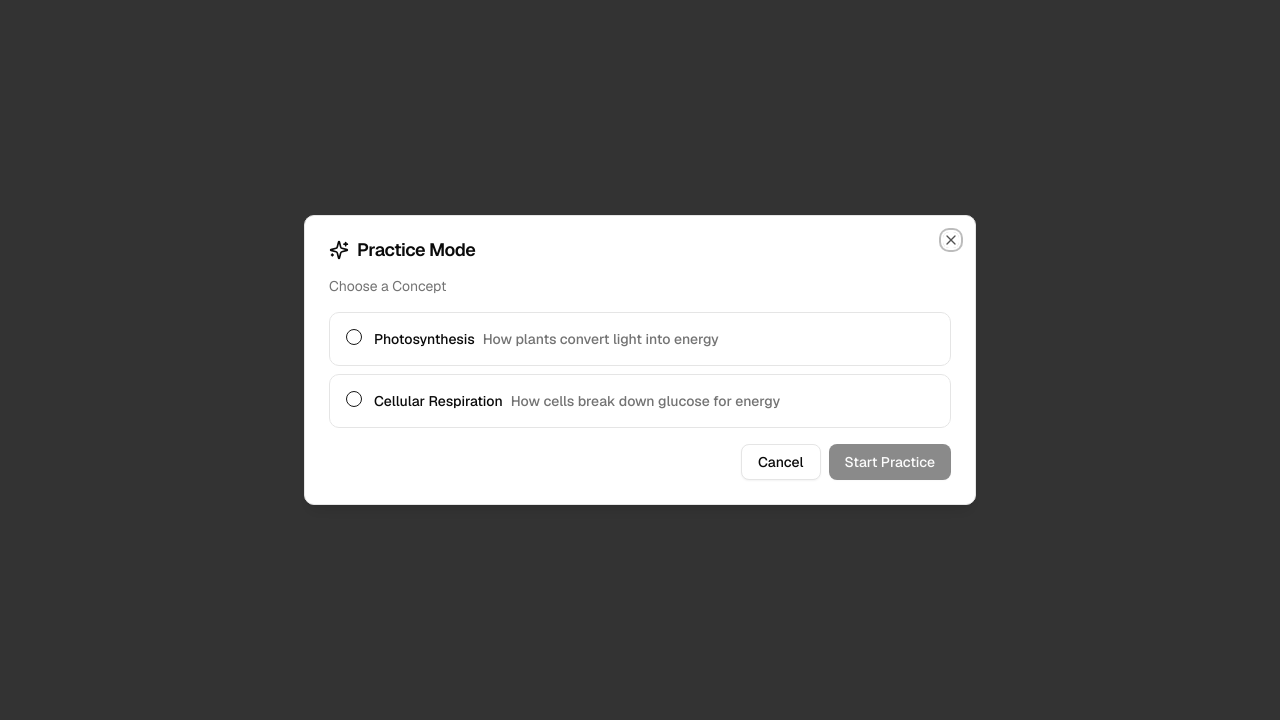
PracticeModal › shows Practice Another and Done buttons in feedback phase
The width and height of the screenshot is (1280, 720).
expect the text "Photosynthesis" is shown: met, box [374,332,475,346]
Click the radio button named "photosynthesis" next to "Photosynthesis": x=354, y=337 [346,329,362,345]
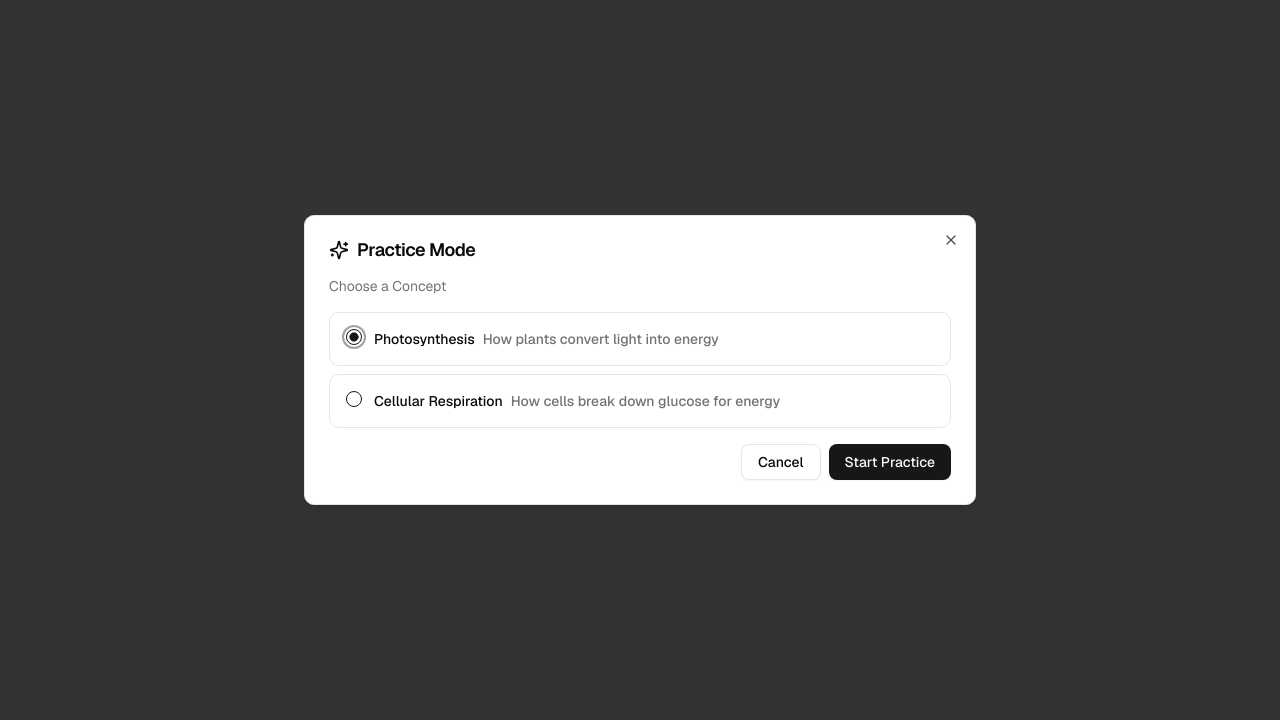
Click the button "Start Practice": x=890, y=462 [828,444,951,480]
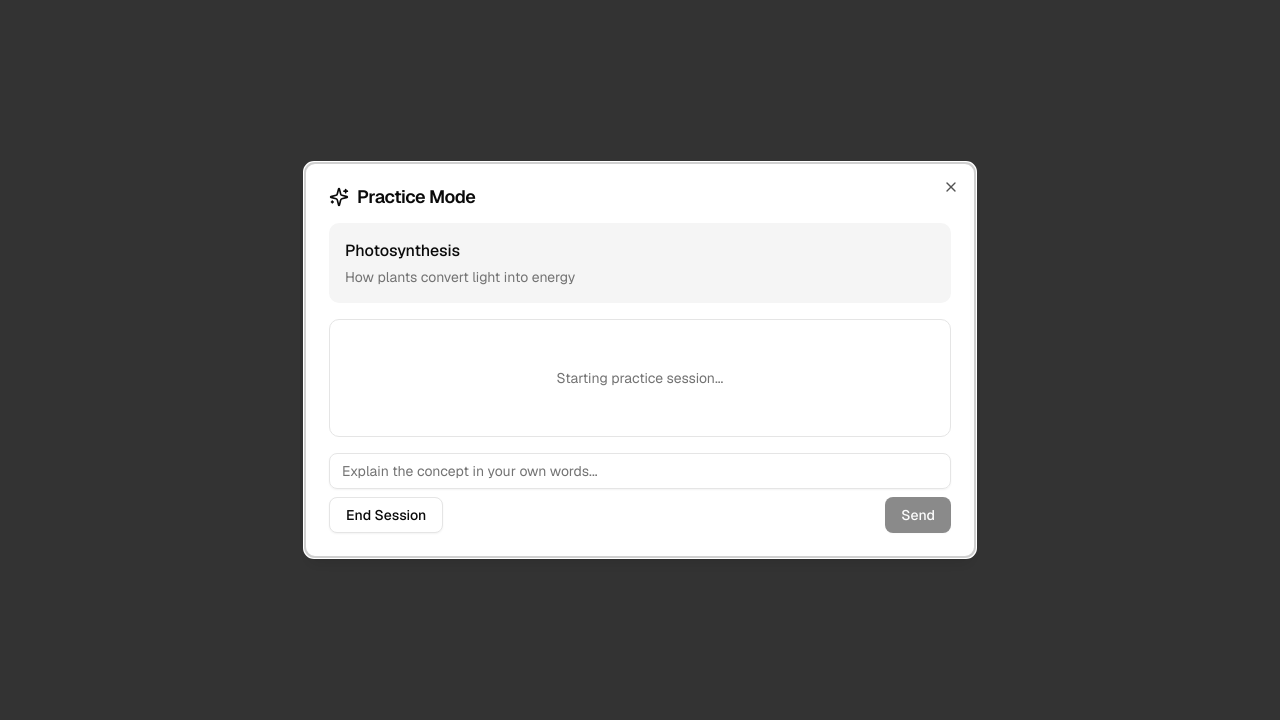
Click the button "End Session": x=386, y=515 [329,497,443,533]
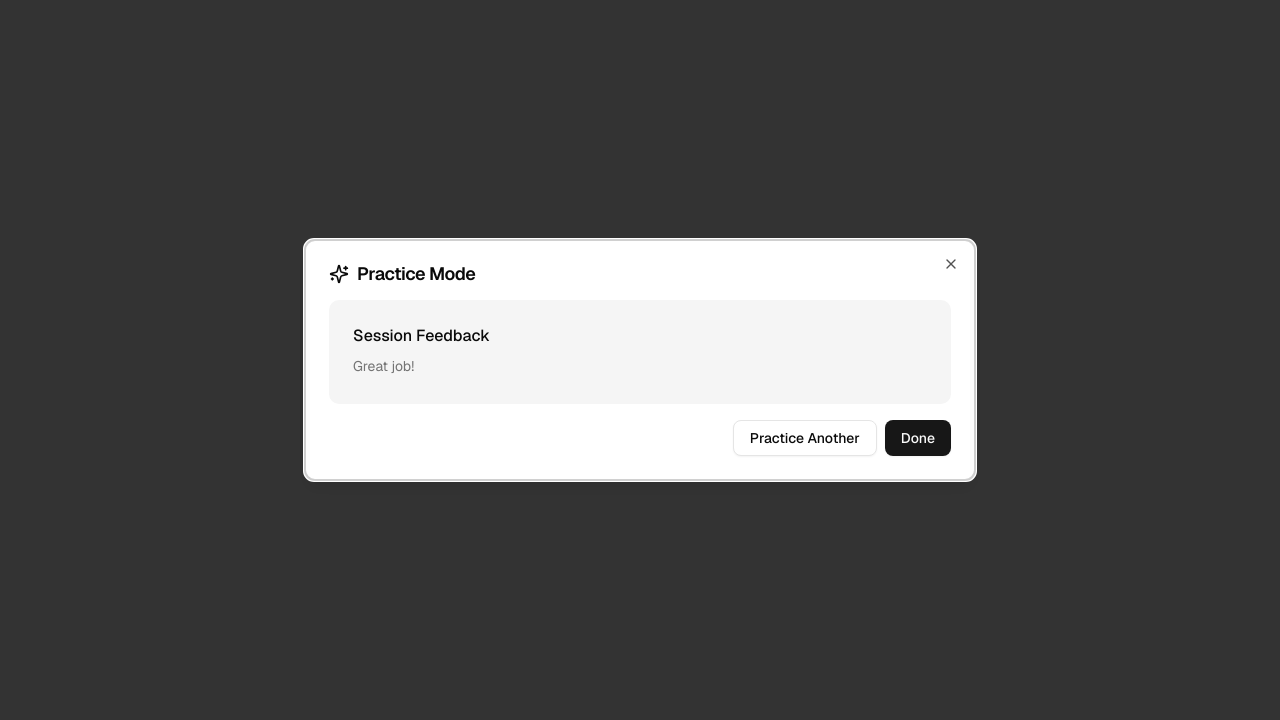
expect the button "Practice Another" is shown: met, box [733,420,877,456]
expect the button "Done" is shown: met, box [885,420,951,456]
